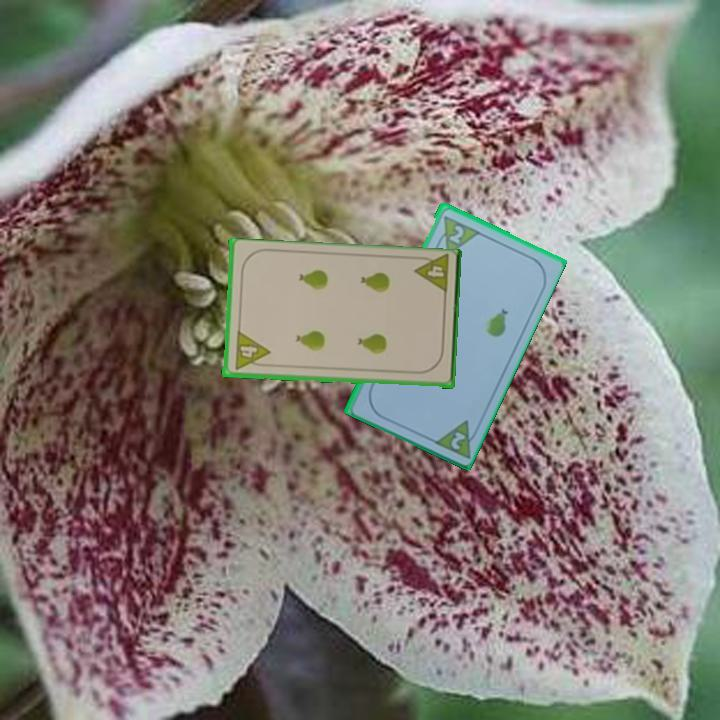2p: (445, 221, 467, 246), (447, 427, 469, 452)
4p: (410, 253, 452, 298), (231, 329, 271, 373)
